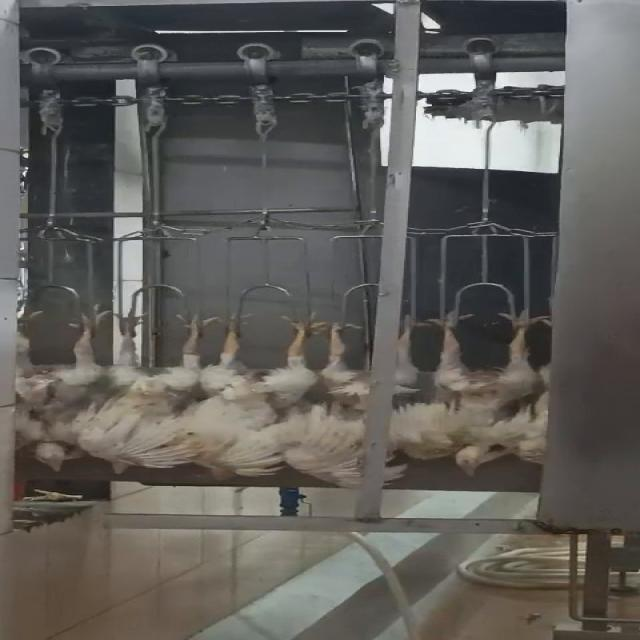chicken: (198, 309, 334, 482), (434, 298, 549, 474), (6, 304, 118, 476), (310, 304, 414, 489), (112, 310, 224, 466)
